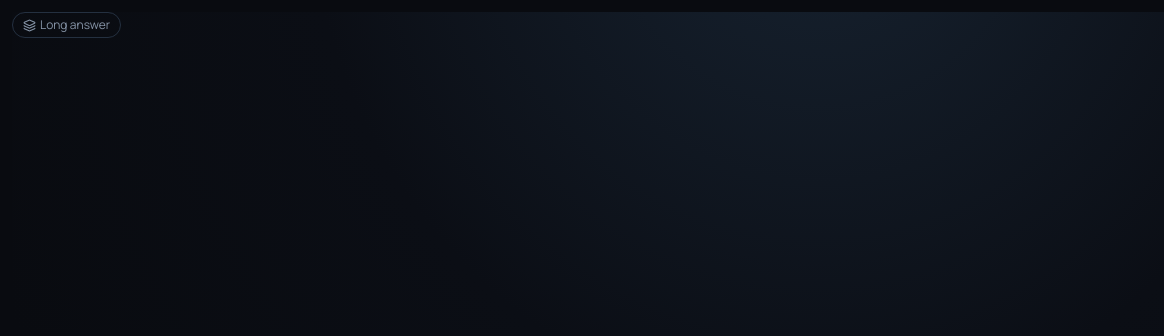
Test case: LongAnswerToggle › is off by default and turns long answers on and off for this conversation only
Later steps or results of the test are not shown.
Click the button "Long answer" at (66, 25), box top-left (12, 12), bottom-right (121, 38)
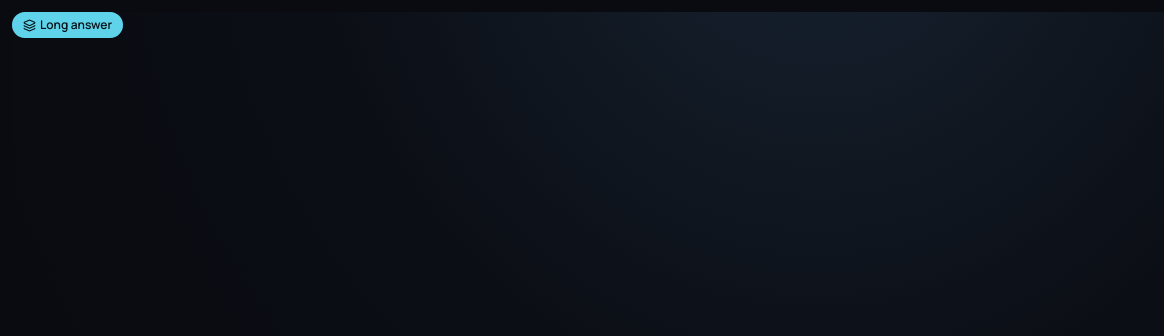
Check: the button "Long answer" is pressed, box top-left (12, 12), bottom-right (123, 38)
